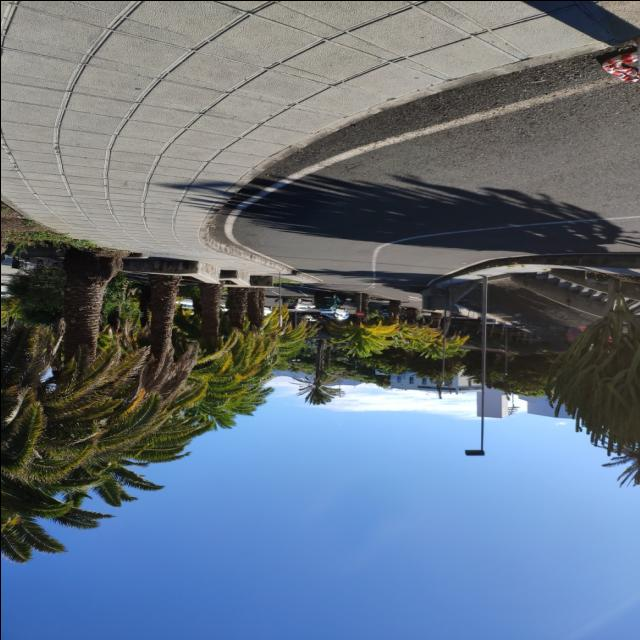Palm-Trees: (282, 339, 350, 405), (329, 292, 391, 357)
